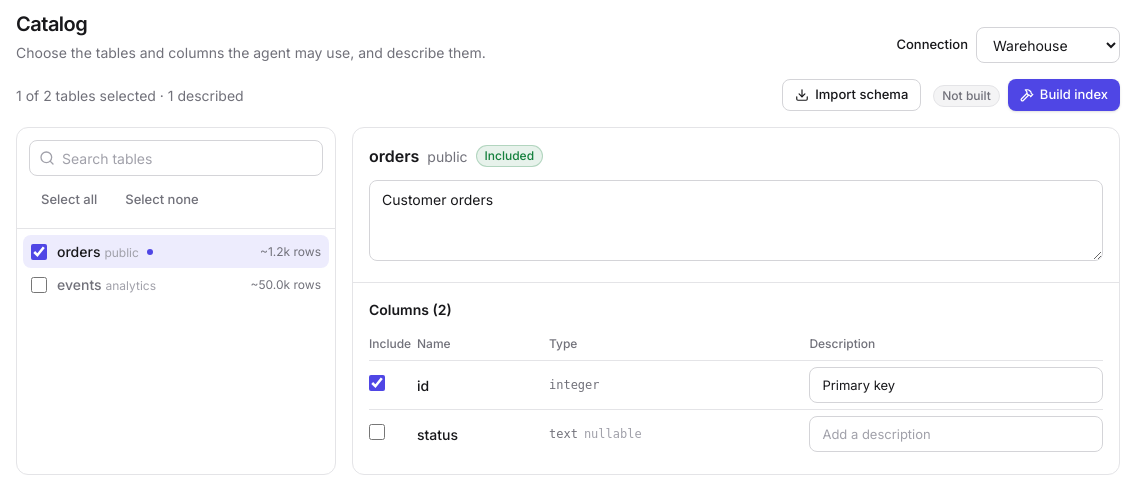
Test: table detail and autosave › shows the first table's columns and switches tables
Expected: the checkbox named "Include public.orders" is shown, [31,244,47,260]
Expected: the table named "Columns of public.orders" is shown, [369,336,1103,458]
Click the button with aria-label "Open analytics.events".
click(79, 284)  # box [57,274,321,295]
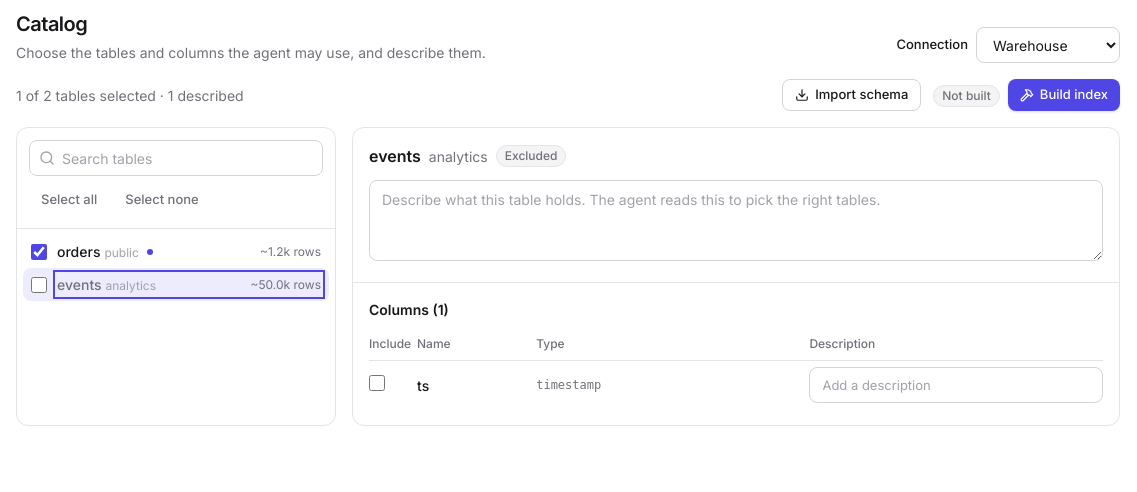
Now the element named "Details of analytics.events" is shown, box [352,127,1120,426]
